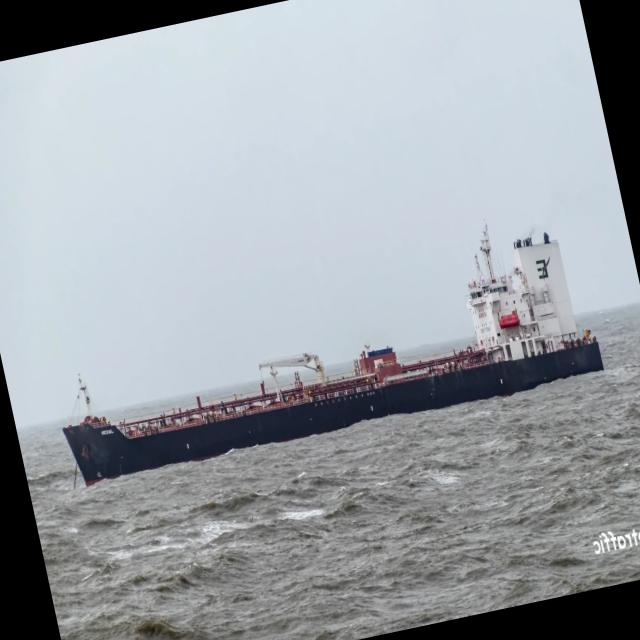Tanker: (63, 228, 603, 485)
